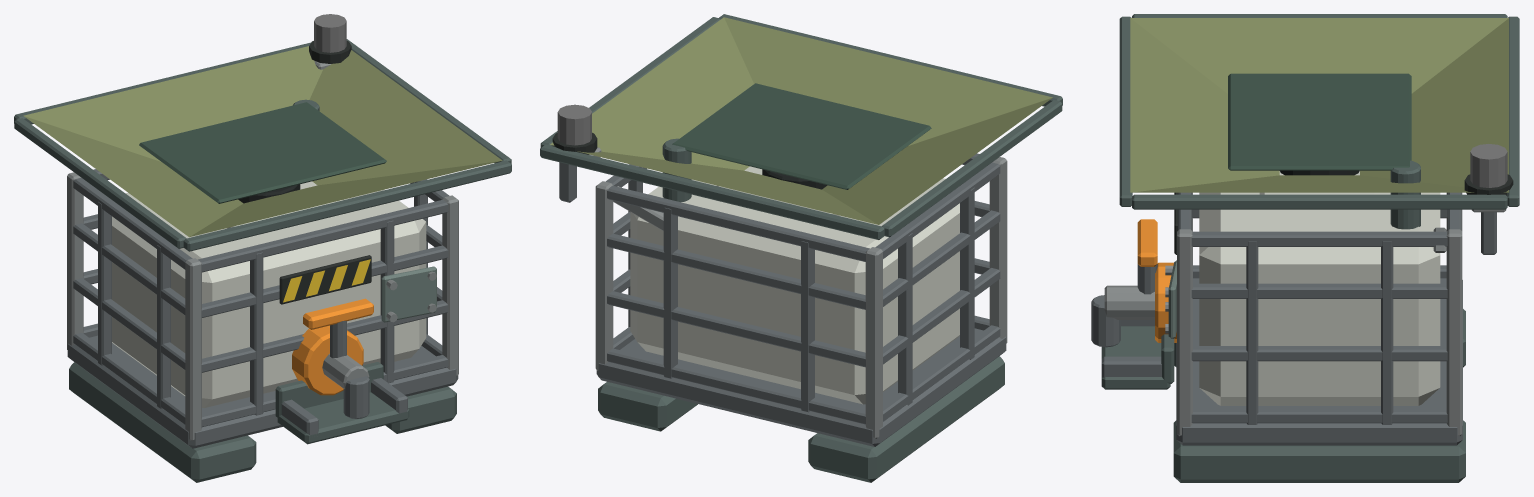
The model's file is rain_collector.glb.
3 renders of one model, left to right at view 1: azimuth 30°, elevation 25°; view 2: azimuth 150°, elevation 25°; view 3: azimuth 270°, elevation 25°, orthographic. The views are drawn at different scales.
Visible parts, largest first — view 1: rain_collector, Lamp; view 2: rain_collector, Lamp; view 3: rain_collector, Lamp.
Part boxes in pixels (box(x1,y1,x2,y2)): rain_collector: box(14, 39, 511, 482); Lamp: box(314, 14, 346, 52); rain_collector: box(540, 14, 1062, 482); Lamp: box(557, 104, 591, 145); rain_collector: box(1091, 14, 1519, 482); Lamp: box(1470, 144, 1507, 187).
Bounding box in the file's own units: 1.54 × 1.3 × 1.49.
